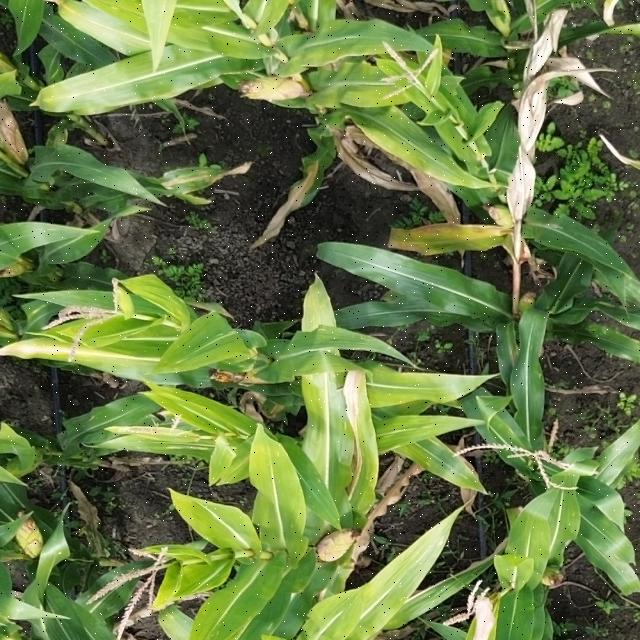gray-leaf-spot: (560, 229, 640, 350), (308, 398, 388, 485), (401, 434, 482, 489)
northern-leaf-blight: (384, 223, 520, 275), (120, 158, 255, 207)
southern-leaf-blight: (115, 320, 214, 380), (374, 114, 464, 179), (498, 484, 572, 562)
